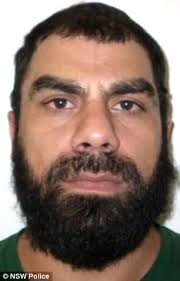middle_eastern_male: (21, 35, 166, 208)
